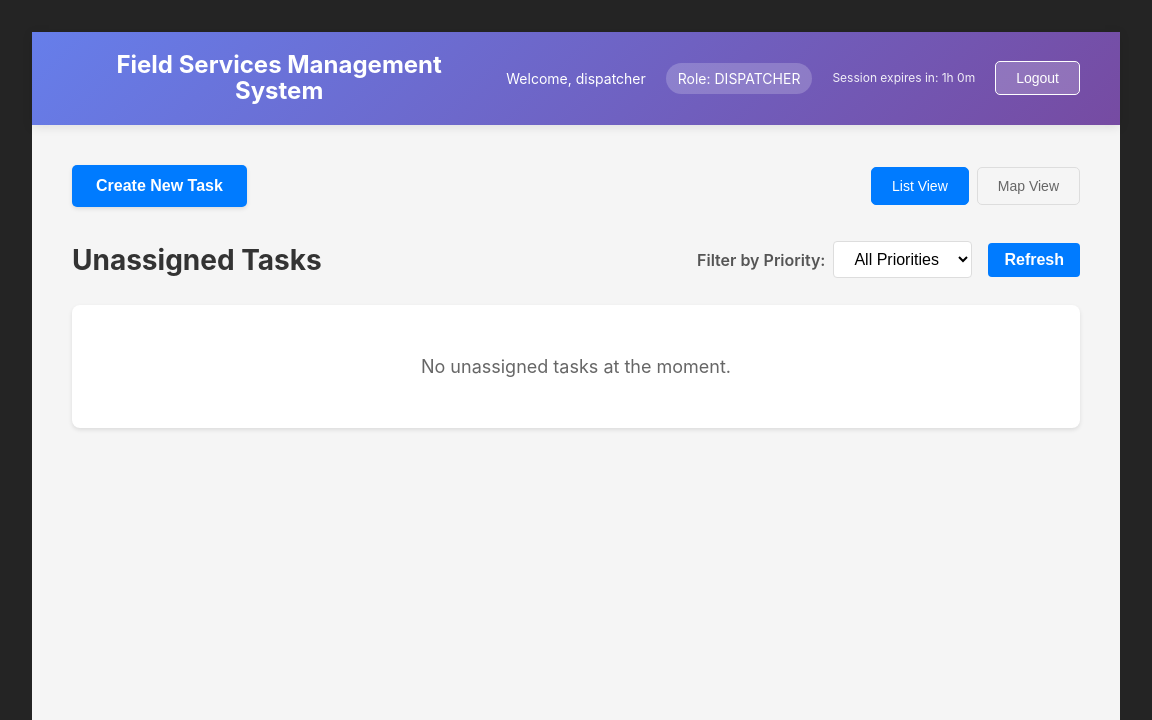
Test case: Dashboard Component › should show task form when create task button is clicked
The image size is (1152, 720).
Click the button "Create New Task": (159, 186) [72, 165, 247, 207]
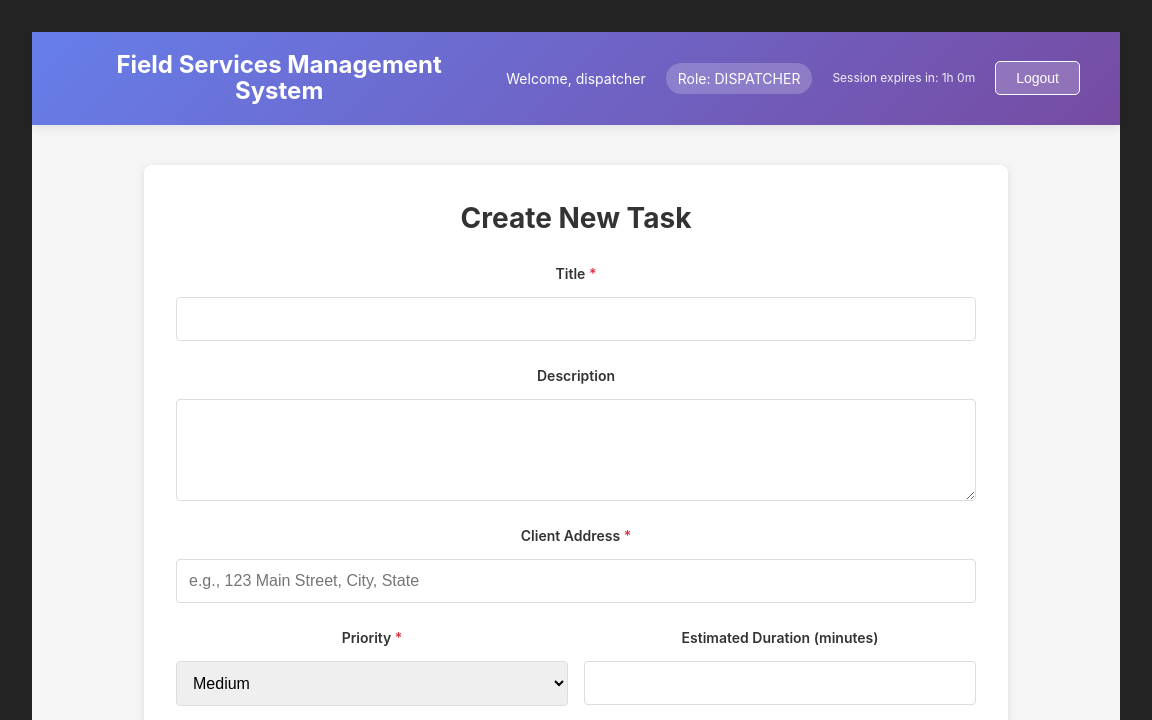
Expected: the heading "Create New Task" is shown, [461, 201, 691, 235]
